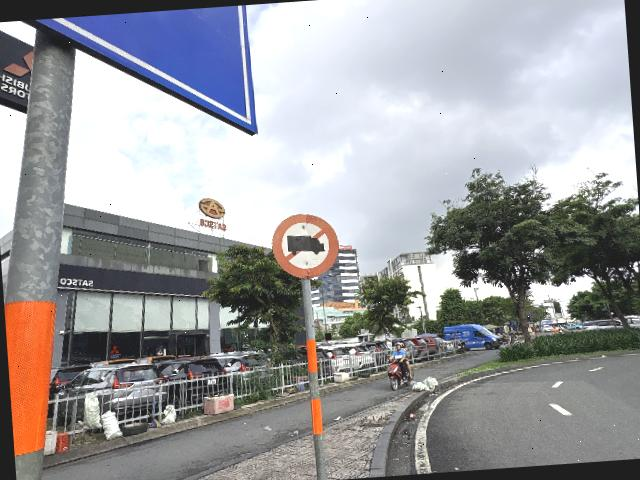cam-xe-tai: (269, 210, 340, 281)
